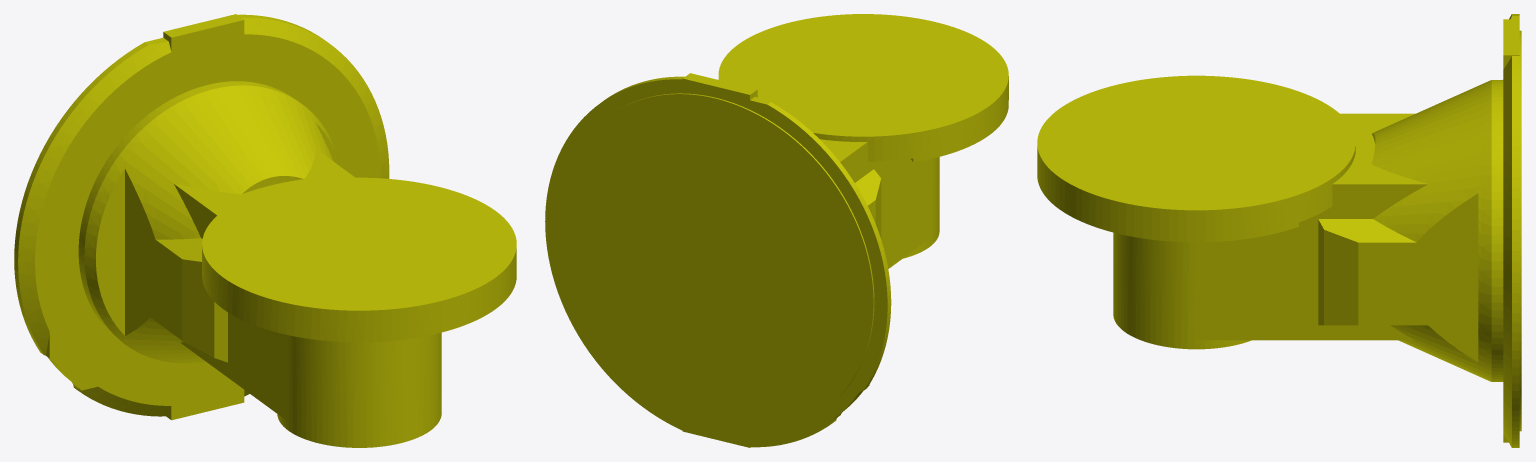
3 views of the same model, side by side, from view 1: azimuth 30°, elevation 25°; view 2: azimuth 150°, elevation 25°; view 3: azimuth 270°, elevation 25° (orthographic). The views are drawn at different scales.
Visible parts, largest first — view 1: node; view 2: node; view 3: node.
Boxes of the visible parts, x1,y1,x2,y2 form: node: [14, 14, 516, 447]; node: [545, 14, 1008, 447]; node: [1037, 14, 1521, 447].
Size of the model in its own units: 662 by 652 by 739.
